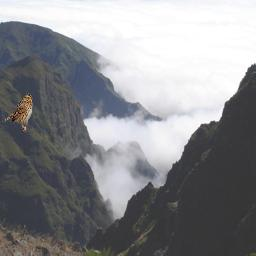Sparrow: (2, 93, 33, 133)
